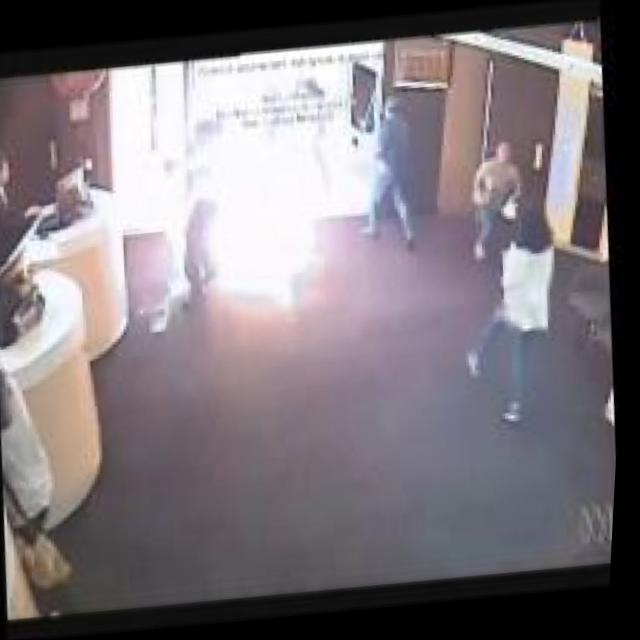fire: (170, 126, 361, 332)
